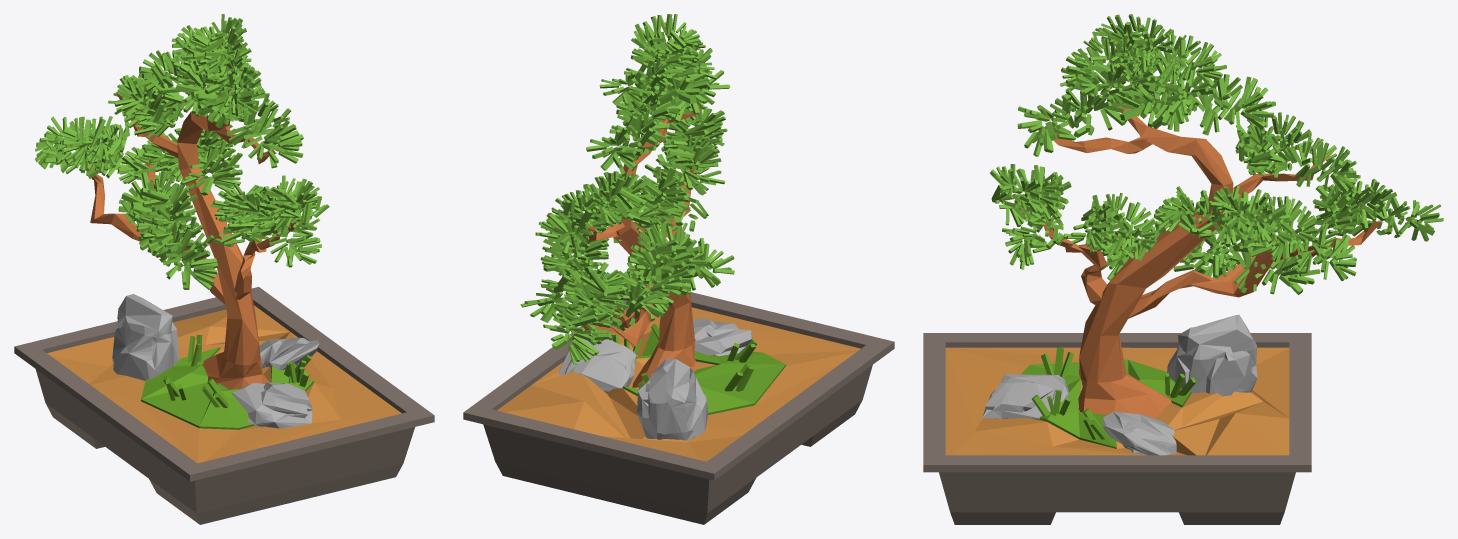
Rendered from pine_tree.glb.
The picture shows the model from 3 angles, left to right: view 1: azimuth 30°, elevation 25°; view 2: azimuth 150°, elevation 25°; view 3: azimuth 270°, elevation 25°; orthographic projection. The views are drawn at different scales.
Parts seen in each view (by area): view 1: Bonsai_12k_narrow_leafs; view 2: Bonsai_12k_narrow_leafs; view 3: Bonsai_12k_narrow_leafs.
Part boxes in pixels (x1=…): Bonsai_12k_narrow_leafs: x1=14, y1=14, x2=434, y2=524; Bonsai_12k_narrow_leafs: x1=463, y1=14, x2=894, y2=524; Bonsai_12k_narrow_leafs: x1=923, y1=14, x2=1443, y2=524.
Size of the model in its own units: 3.61 by 5.93 by 6.02.
